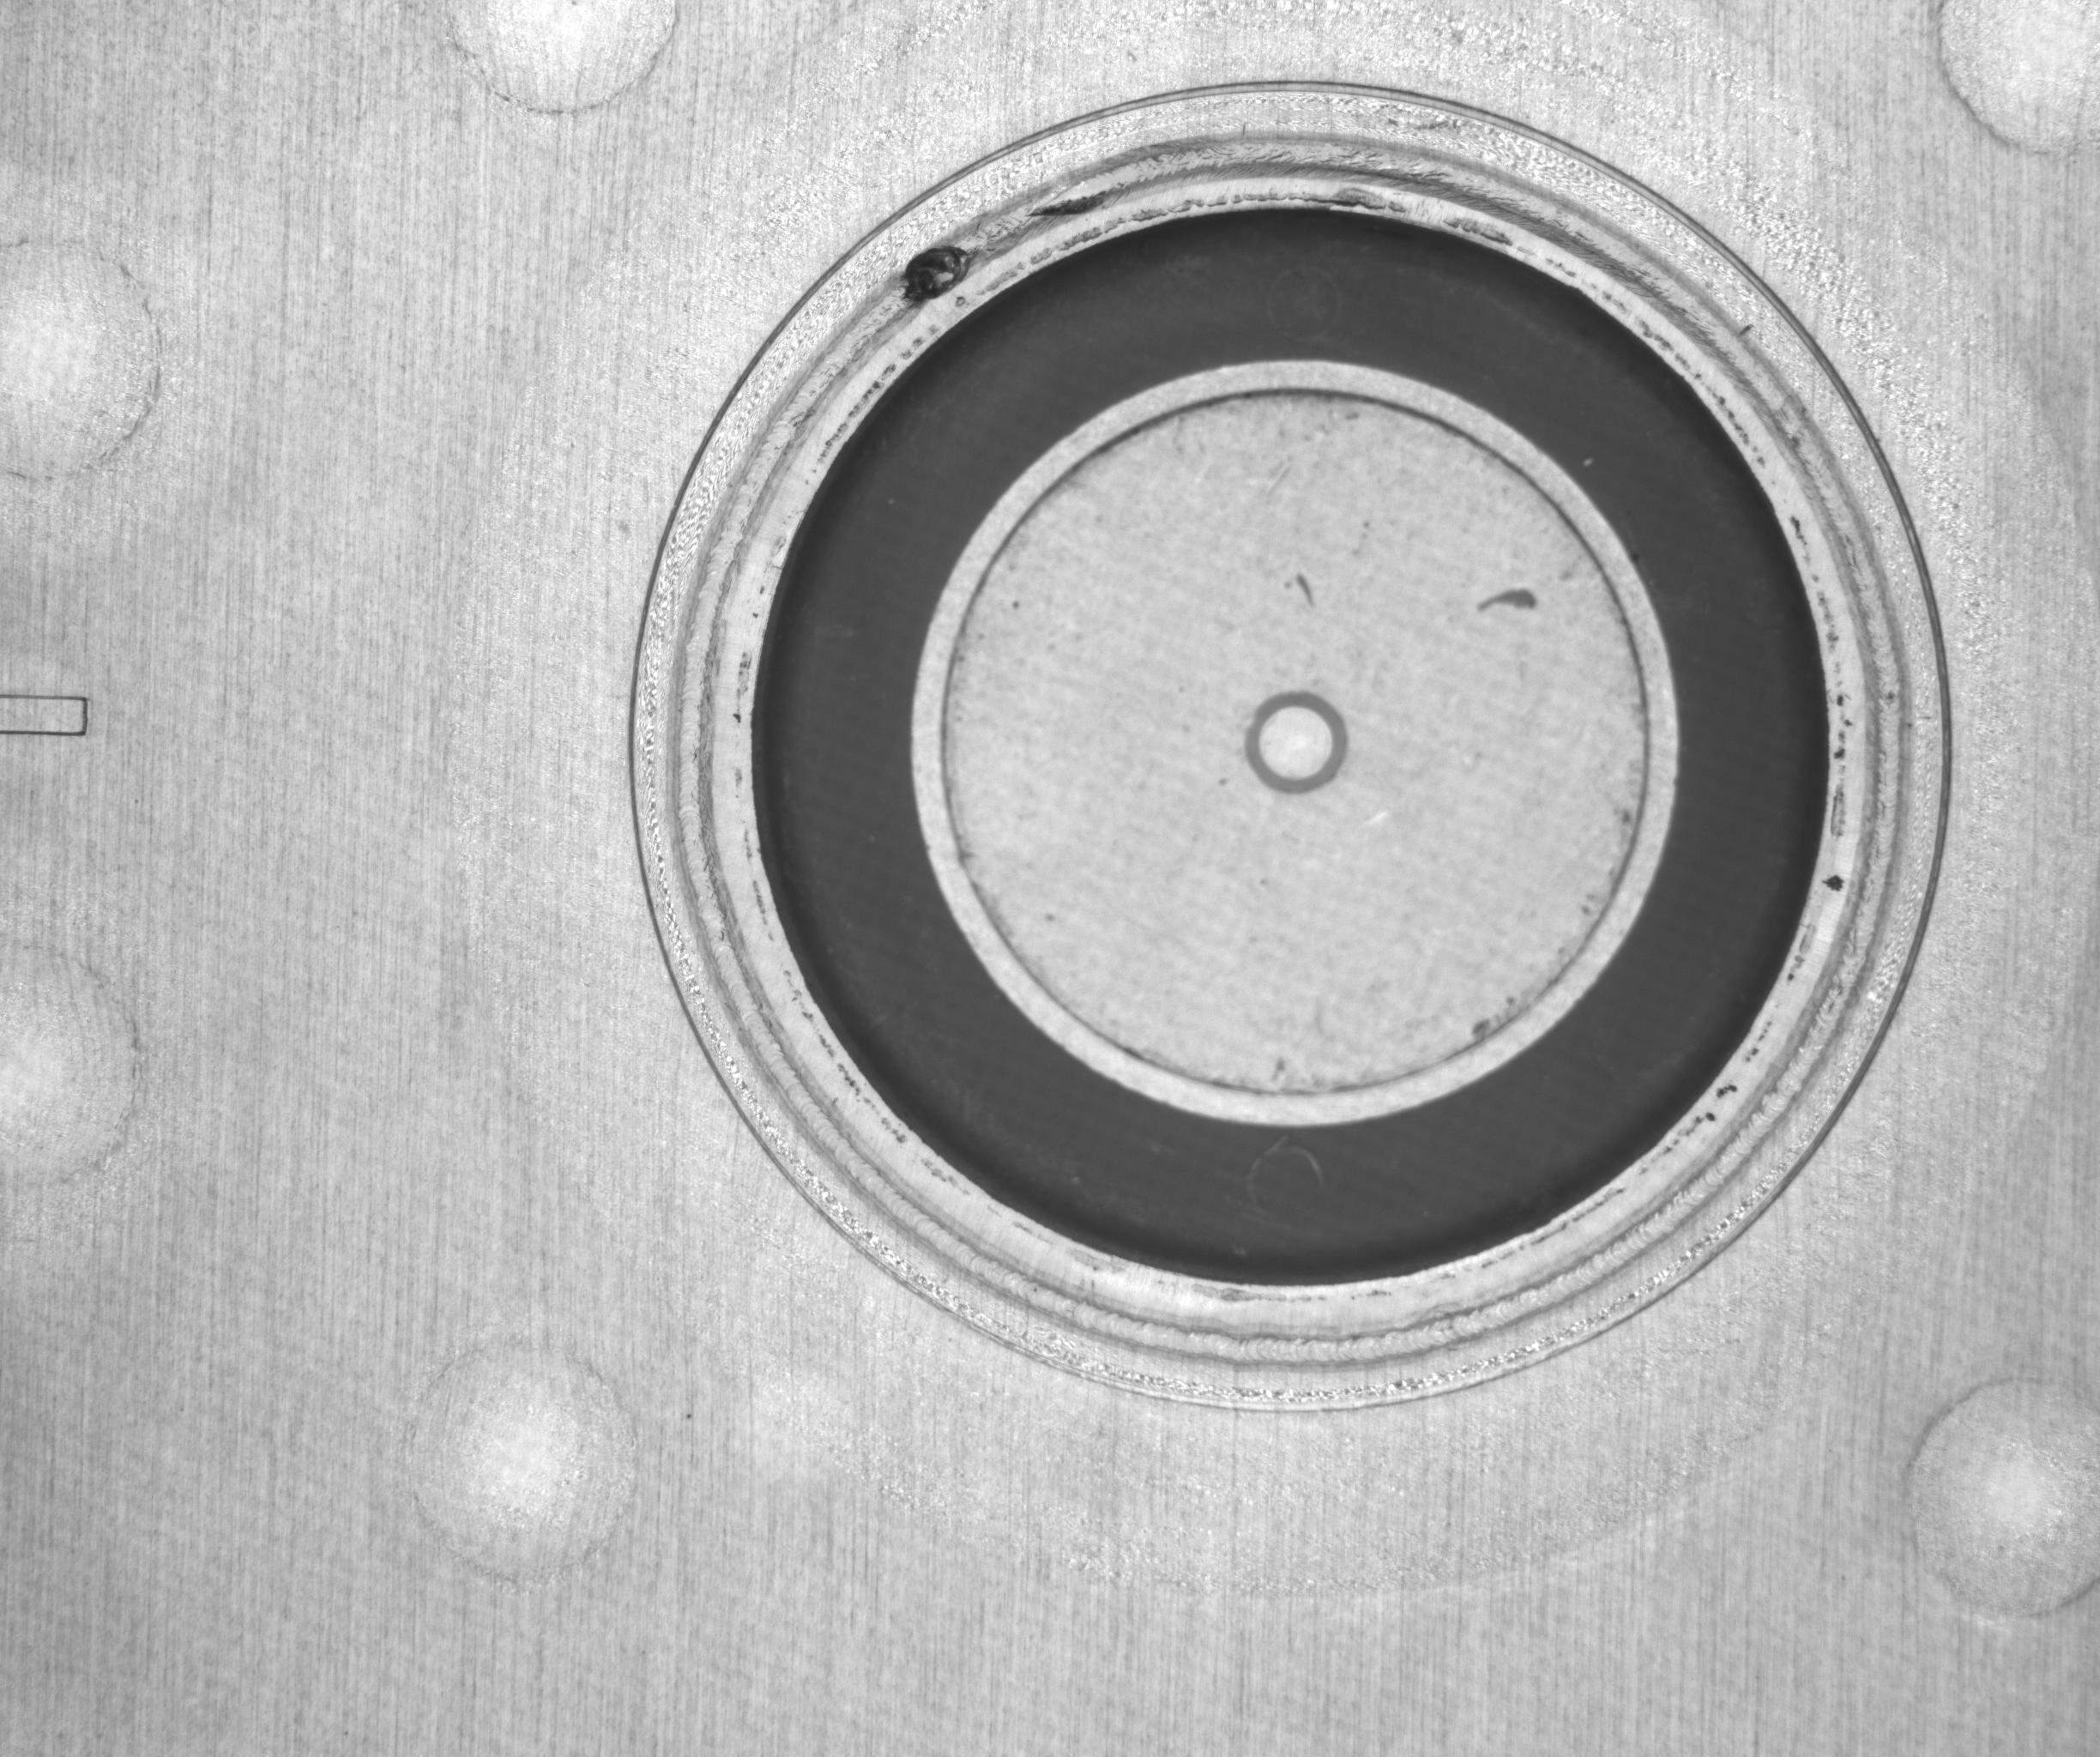weldinghole: (794, 173, 1052, 393)
